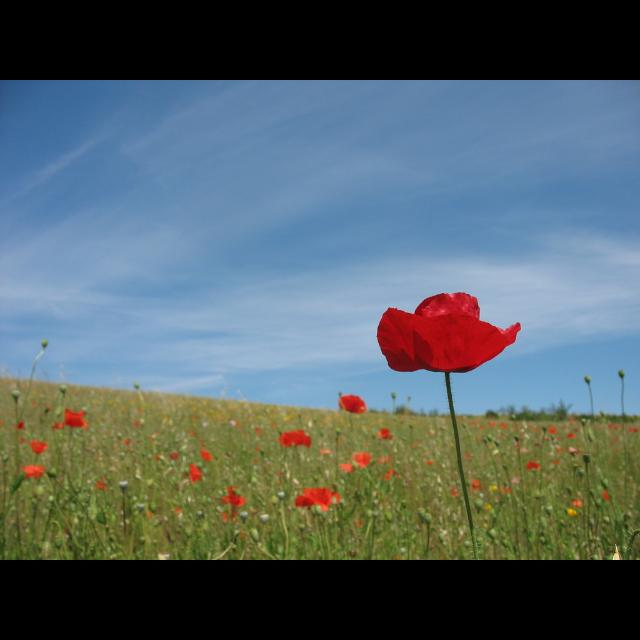Flower: (374, 290, 520, 374), (294, 488, 340, 512), (338, 394, 368, 416), (60, 408, 92, 428), (280, 428, 312, 446), (224, 484, 244, 510), (20, 462, 44, 482), (348, 452, 372, 470), (188, 464, 206, 484), (31, 438, 51, 454), (336, 462, 356, 476), (96, 478, 112, 492), (200, 446, 214, 462), (378, 428, 394, 440), (380, 468, 396, 480), (524, 460, 540, 470), (258, 513, 270, 525), (12, 420, 26, 430), (168, 450, 182, 460), (449, 486, 459, 500), (473, 478, 483, 492), (566, 506, 580, 516), (569, 499, 583, 509), (602, 490, 610, 502), (548, 428, 556, 436), (566, 431, 576, 437)
